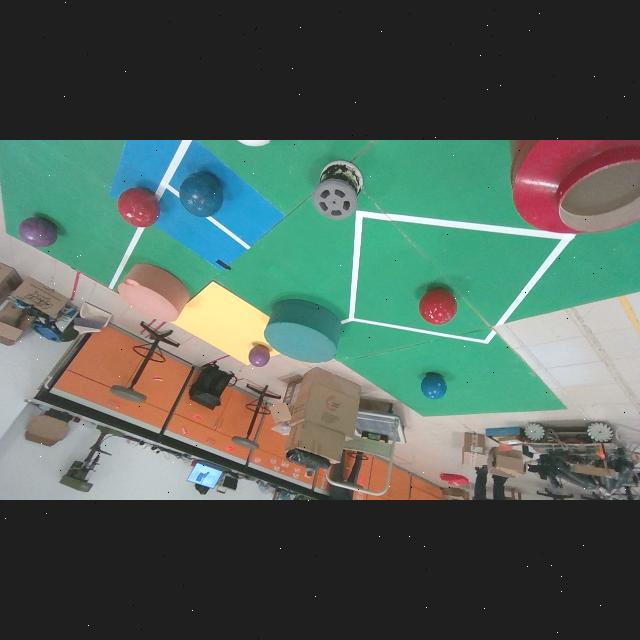B: (180, 172, 223, 217), (420, 373, 447, 399)
P: (19, 217, 58, 247), (249, 345, 269, 367)
R: (117, 188, 160, 227), (419, 287, 457, 325)
